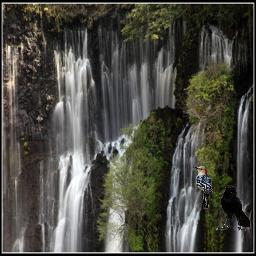Crow: (216, 185, 250, 231)
Woodpecker: (193, 166, 213, 209)
